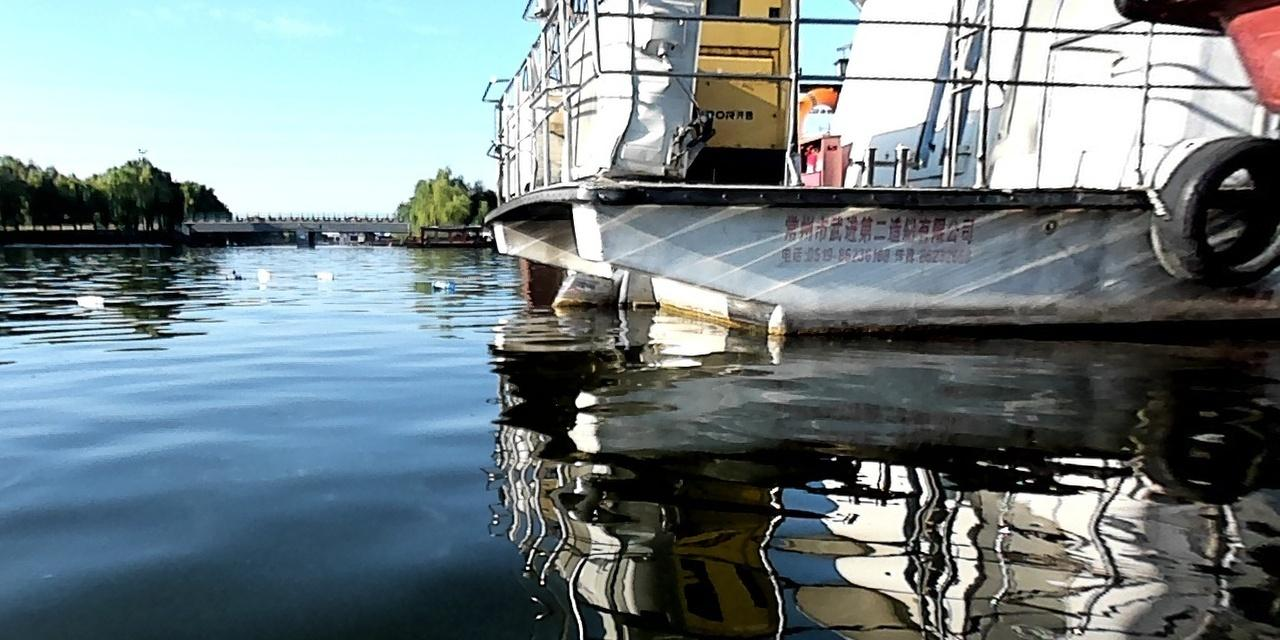bottle: (427, 276, 456, 290), (223, 270, 247, 281)
